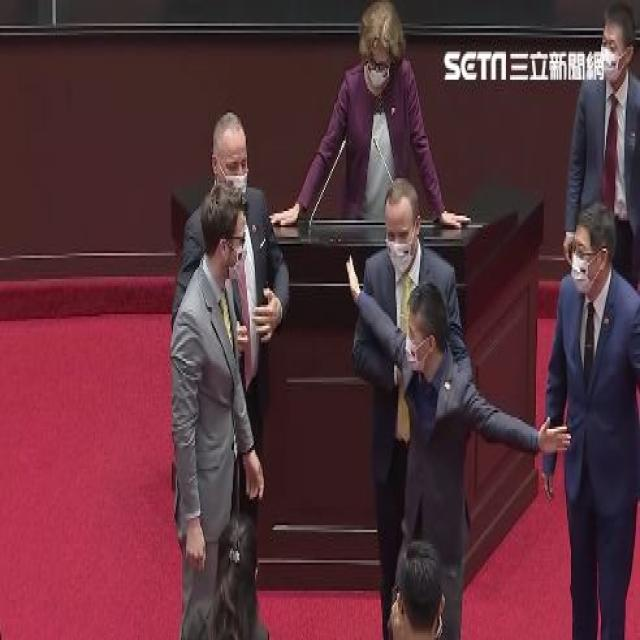stand: (188, 107, 284, 640), (354, 175, 453, 640), (169, 197, 264, 640), (553, 205, 635, 640), (388, 280, 479, 631), (335, 1, 430, 318), (576, 5, 640, 397)
